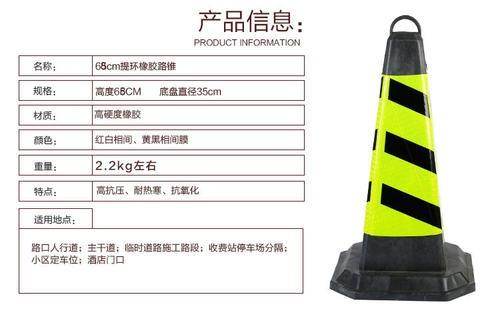cone_barrel: (332, 26, 462, 295)
